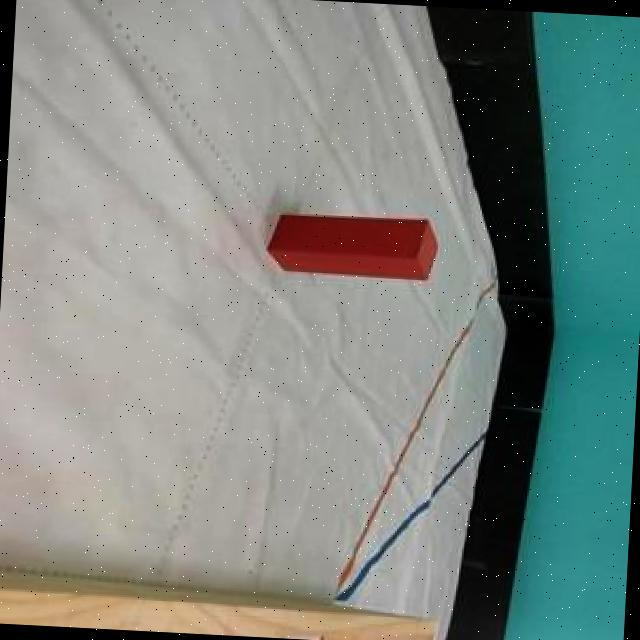redbox: (264, 208, 442, 281)
